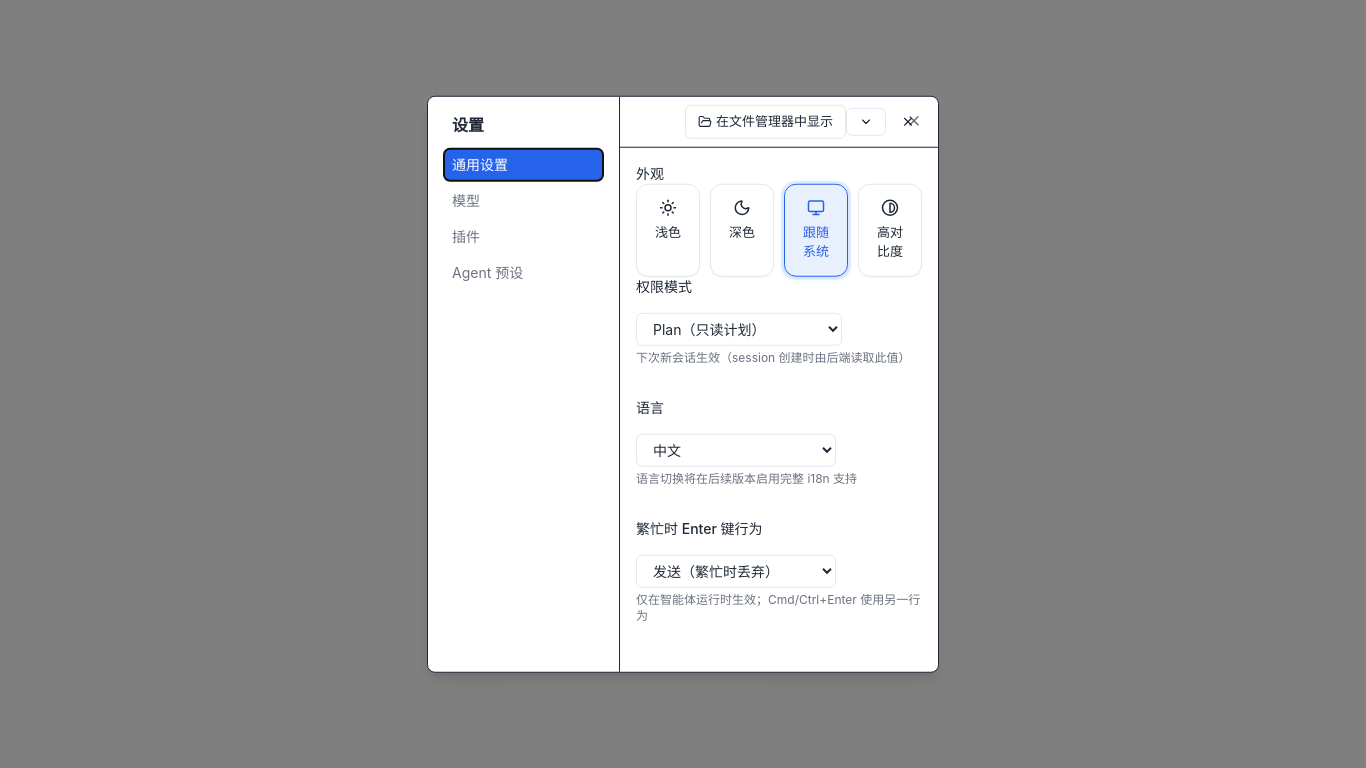
Test: SettingsModal › renders a different content placeholder when nav item switches
Click the button with test id "settings-nav-models" at (524, 201), box [444, 185, 603, 217]
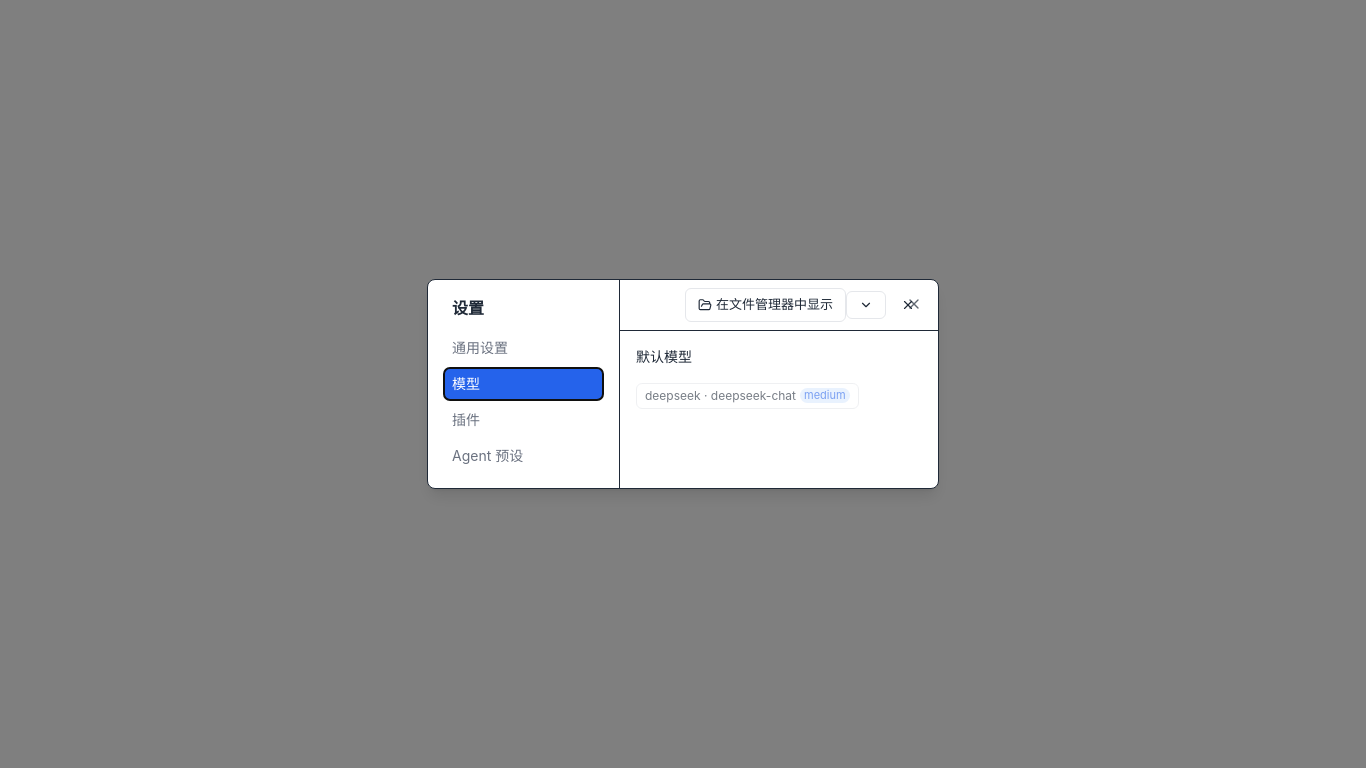
Now the element with test id "settings-content-models" is shown, box [636, 348, 859, 408]
